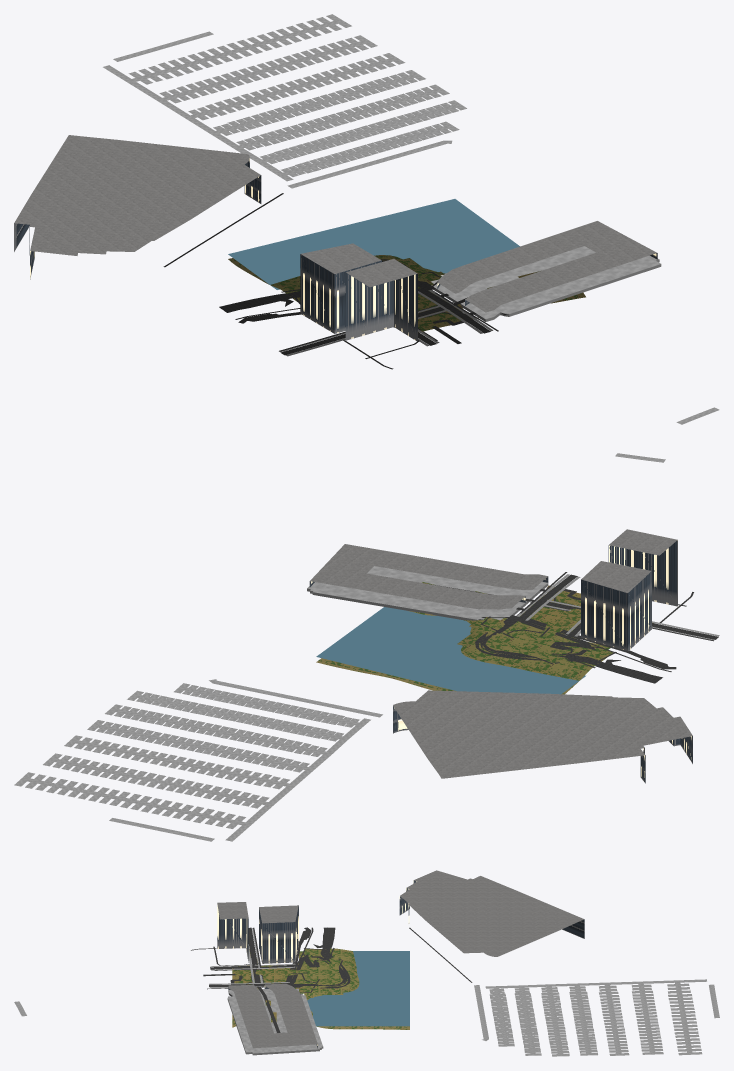
File: tile_43_-30.gltf
3 renders of one model, top to bottom at view 1: azimuth 30°, elevation 25°; view 2: azimuth 150°, elevation 25°; view 3: azimuth 270°, elevation 25°, orthographic. The views are drawn at different scales.
Parts seen in each view (by area): view 1: Buildings_col, Piers_col, Water, Roads, Terrain_col, Sidewalks; view 2: Buildings_col, Piers_col, Water, Terrain_col, Roads, Sidewalks; view 3: Buildings_col, Piers_col, Water, Terrain_col, Roads, Sidewalks.
Boxes of the visible parts, x1,y1,x2,y2 form: Buildings_col: (14,135,657,341); Piers_col: (103,14,719,424); Water: (228,199,519,289); Roads: (163,193,507,369); Terrain_col: (228,255,585,332); Sidewalks: (280,290,493,356); Buildings_col: (309,529,692,783); Piers_col: (14,453,665,841); Water: (316,607,585,694); Terrain_col: (316,582,653,694); Roads: (435,572,718,683); Sidewalks: (517,574,719,640); Buildings_col: (217,870,584,1048); Piers_col: (14,979,719,1056); Water: (307,951,409,1026); Terrain_col: (232,948,409,1029); Roads: (191,927,472,1032); Sidewalks: (209,928,296,987).
Bounding box in the file's own units: 569 × 83.01 × 1016.
6 materials, 5 textured.
